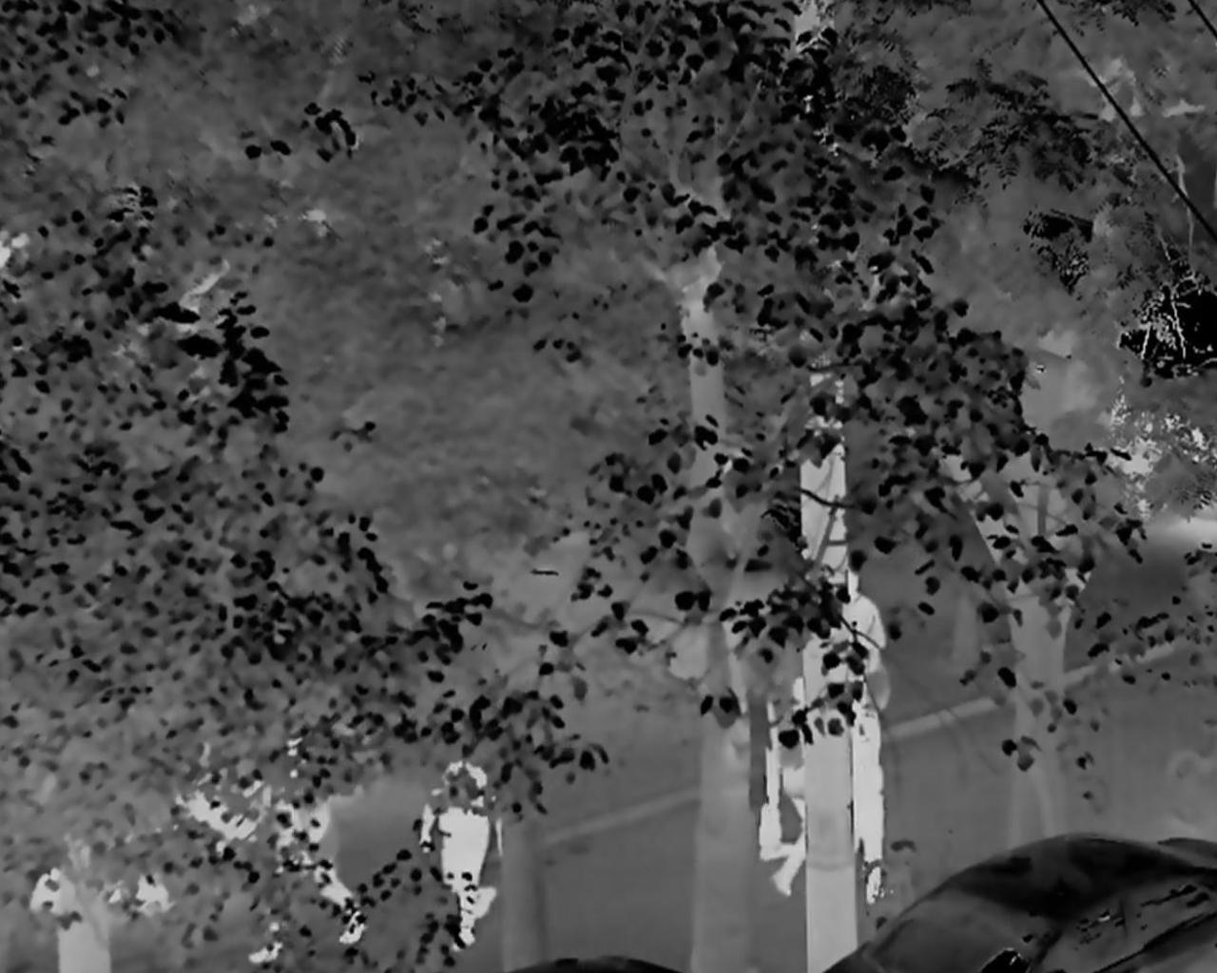person: (253, 754, 362, 947), (843, 565, 894, 900), (424, 755, 508, 935), (761, 677, 807, 888)
